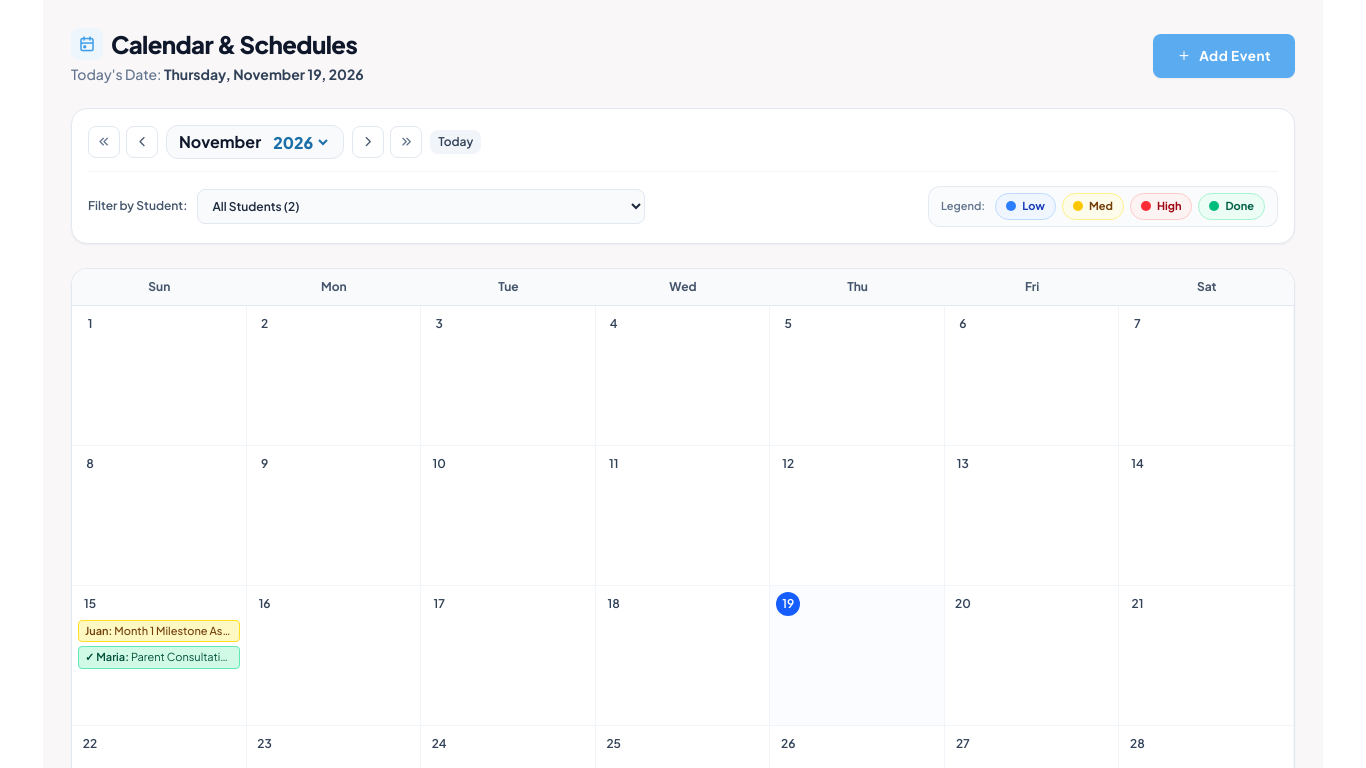
Test case: IepCalendarPage › opens Day Events Modal when any calendar day cell is clicked and supports adding an event for that day
// Click day cell with events
Step 1. Click the button with aria-label "View events for November 15, 2026 (2 events)" → (159, 656), box [72,586,247,726]
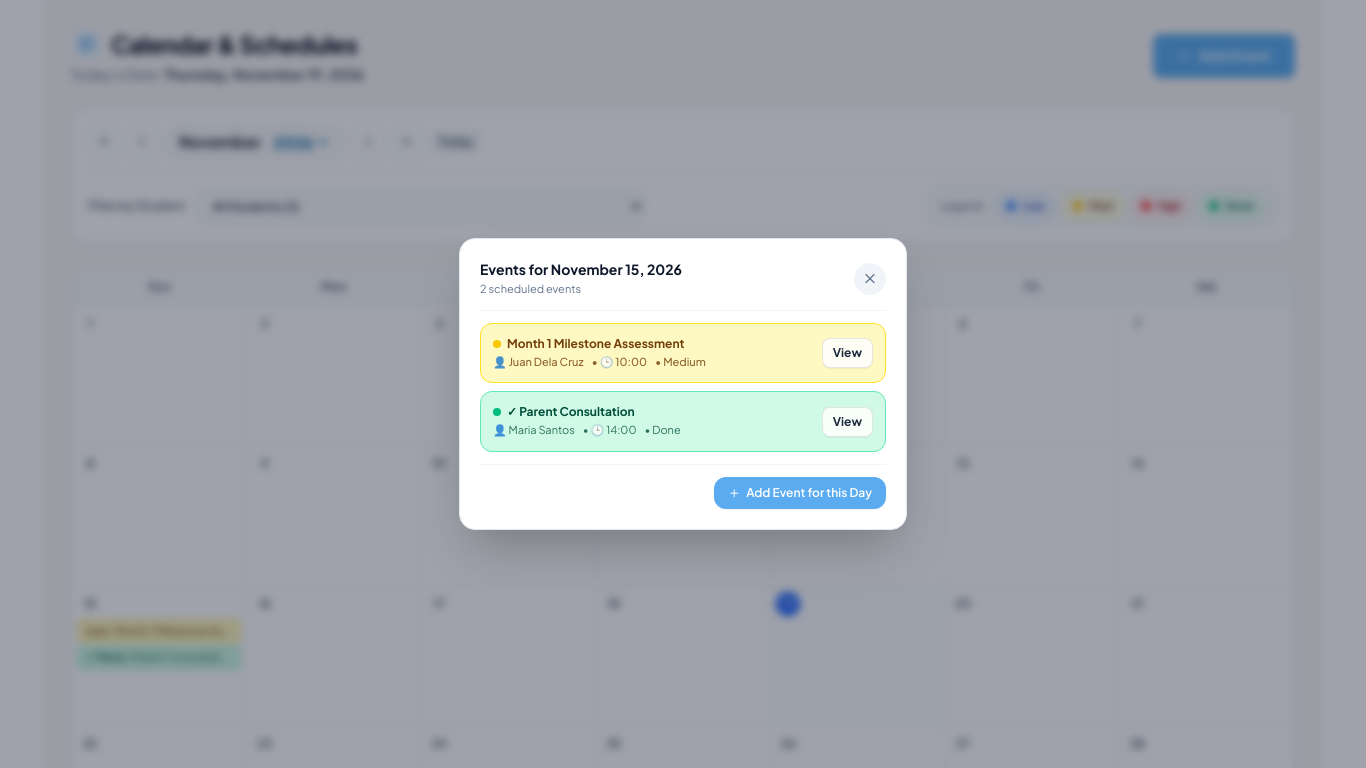
expect the dialog with test id "day-events-modal" is shown: met
expect the dialog with test id "day-events-modal" shows "Month 1 Milestone Assessment": met, box [507,336,684,351]
Step 2. Click the button with test id "add-event-for-day-btn" → (800, 493), box [714,477,886,509]
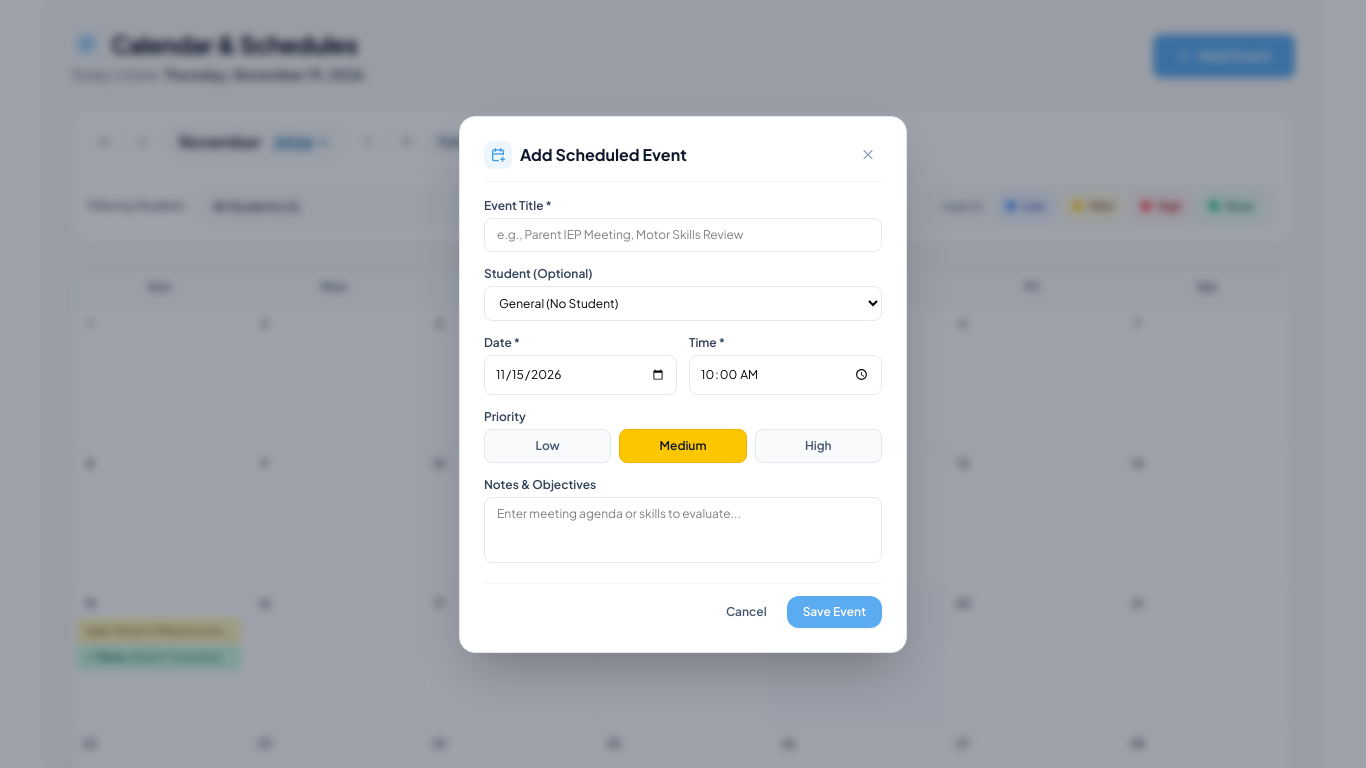
expect the dialog with test id "add-custom-event-modal" is shown: met
expect the date field with test id "event-date-input" holds "2026-11-15": met, box [484,354,677,394]
expect the button with test id "add-event-priority-low" is shown: met, box [484,428,611,462]
